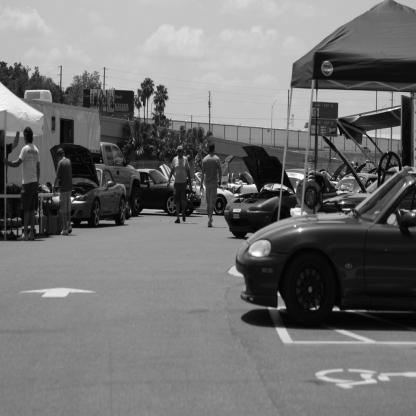car: (238, 194, 416, 323)
